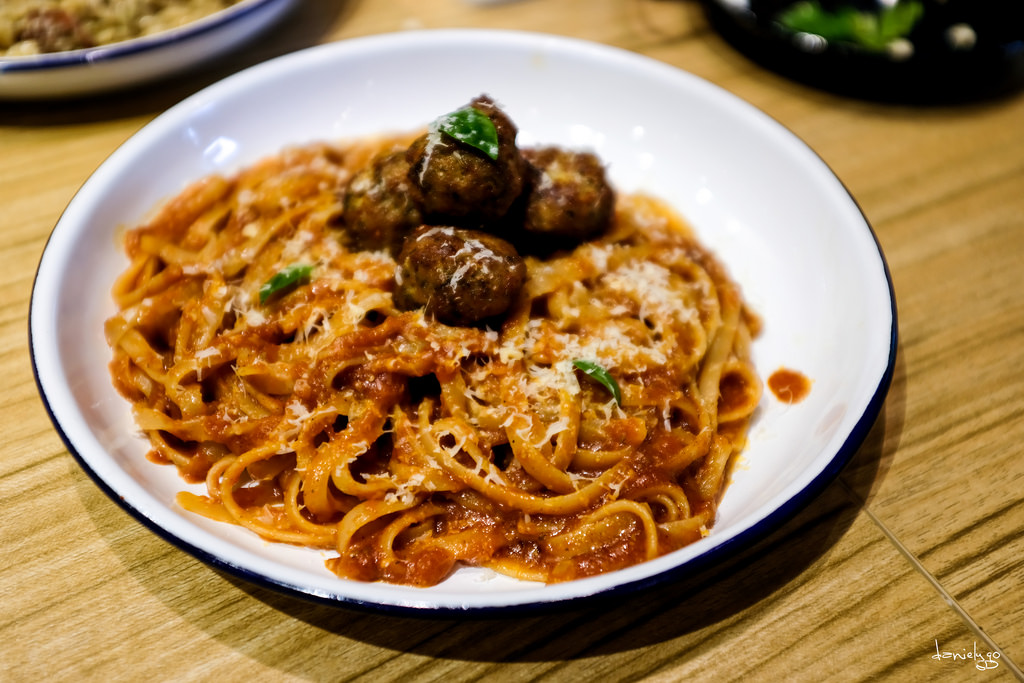meatballs: (404, 236, 524, 310), (429, 105, 506, 210)
plain spaghetti: (201, 310, 455, 507)
